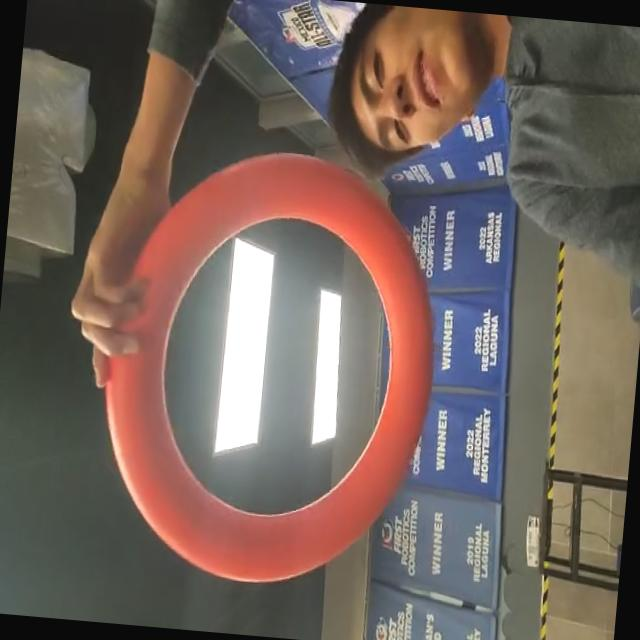note: (84, 138, 453, 605)
